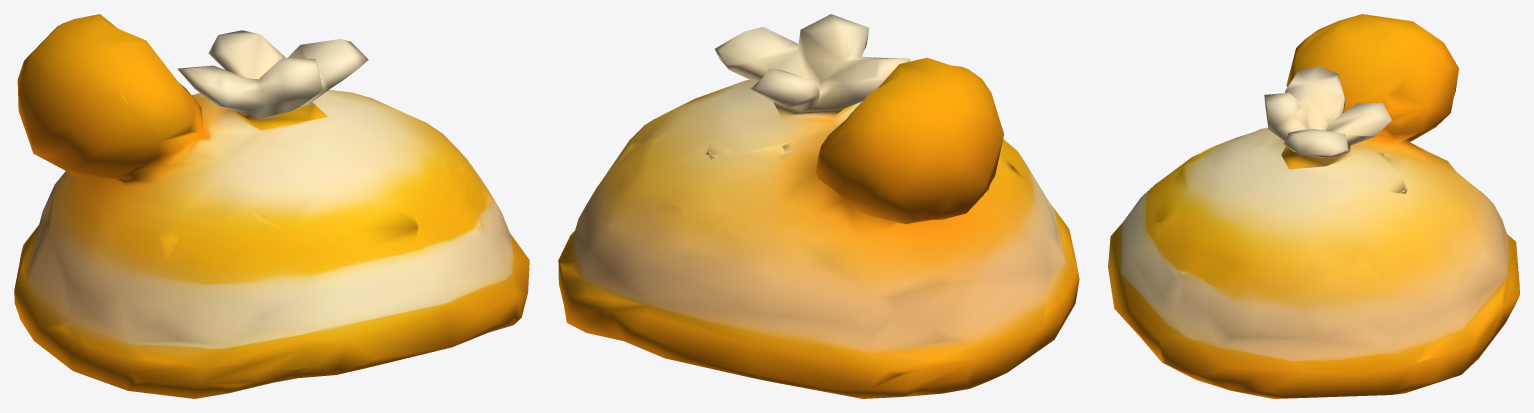
Rendered from knit-head.glb.
3 views of the same model, side by side, from view 1: azimuth 30°, elevation 25°; view 2: azimuth 150°, elevation 25°; view 3: azimuth 270°, elevation 25° (orthographic). The views are drawn at different scales.
Visible parts, largest first — view 1: tripo_node_1b591df8; view 2: tripo_node_1b591df8; view 3: tripo_node_1b591df8.
Boxes of the visible parts, <box> form: tripo_node_1b591df8: <box>14,14,529,398</box>; tripo_node_1b591df8: <box>558,14,1079,398</box>; tripo_node_1b591df8: <box>1108,14,1519,398</box>.
Bounding box in the file's own units: 0.6 × 0.3729 × 0.5747.
1 material, 1 textured.
